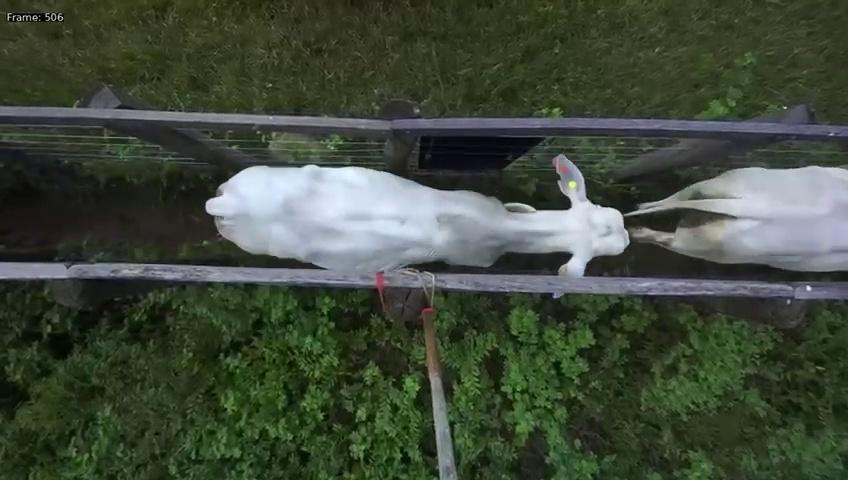cattle: (177, 137, 633, 293)
